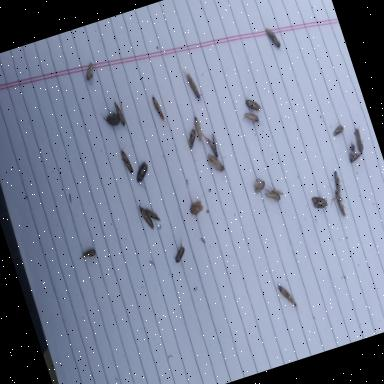pbw: (131, 159, 156, 196), (325, 182, 349, 220), (181, 66, 204, 104), (207, 150, 233, 182), (276, 279, 299, 314), (150, 92, 169, 128), (136, 200, 156, 232), (202, 130, 222, 160), (242, 89, 265, 115), (112, 96, 130, 128), (350, 124, 368, 154), (117, 144, 134, 175), (344, 138, 364, 164), (169, 238, 189, 264), (241, 109, 264, 130), (191, 114, 208, 142), (310, 189, 330, 212), (262, 180, 281, 204), (186, 197, 206, 218), (101, 108, 122, 128), (265, 25, 281, 50), (184, 128, 200, 150), (330, 170, 344, 195), (77, 248, 97, 264), (252, 176, 268, 196), (82, 62, 98, 82), (144, 206, 160, 224), (330, 121, 345, 137), (270, 186, 284, 198)
